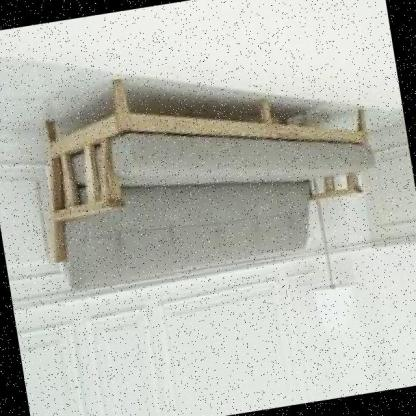Sofa: (2, 30, 400, 310)
